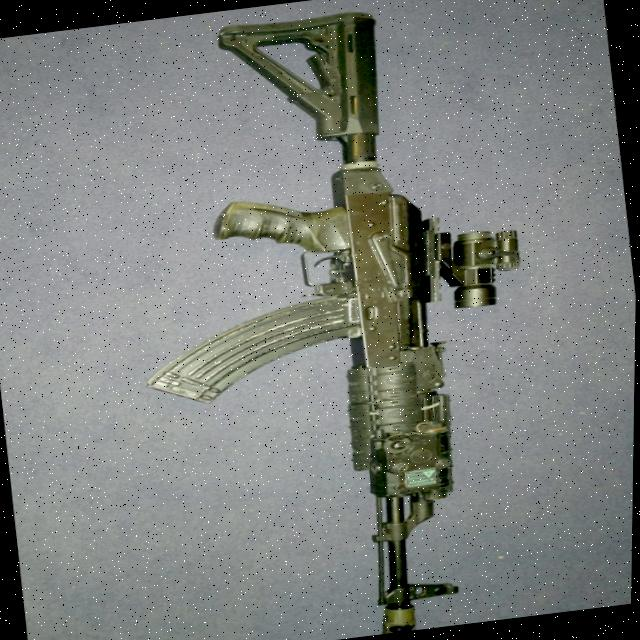firearm: (97, 0, 570, 640)
